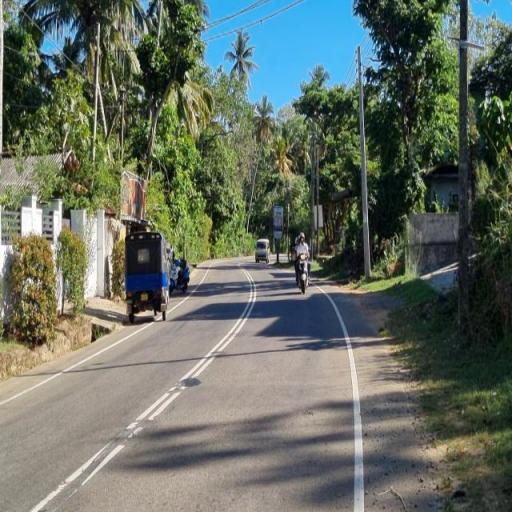double_white_line: (28, 269, 258, 512)
